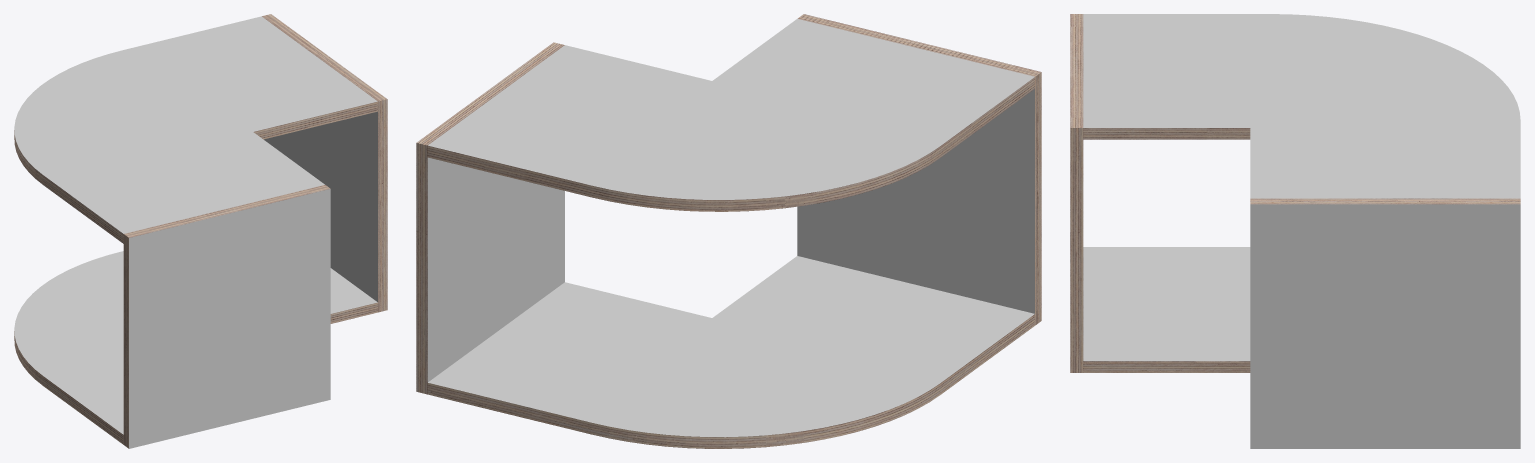
Rendered from Rounded Corner Open.fbx.
3 renders of one model, left to right at view 1: azimuth 30°, elevation 25°; view 2: azimuth 150°, elevation 25°; view 3: azimuth 270°, elevation 25°, orthographic. The views are drawn at different scales.
Parts seen in each view (by area): view 1: Rounded Corner Open.TL, Rounded Corner Open.TM, Rounded Corner Open.BL, Rounded Corner Open.L, Rounded Corner Open.BM, Rounded Corner Open.TR, Rounded Corner Open.TMR, Rounded Corner Open.TML, Rounded Corner Open.R, Rounded Corner Open.BR, Rounded Corner Open.BML; view 2: Rounded Corner Open.TM, Rounded Corner Open.BM, Rounded Corner Open.BL, Rounded Corner Open.BR, Rounded Corner Open.TR, Rounded Corner Open.TL, Rounded Corner Open.BMR, Rounded Corner Open.TMR, Rounded Corner Open.TML, Rounded Corner Open.BML, Rounded Corner Open.L, Rounded Corner Open.R; view 3: Rounded Corner Open.TR, Rounded Corner Open.TM, Rounded Corner Open.R, Rounded Corner Open.BR, Rounded Corner Open.TL, Rounded Corner Open.BML, Rounded Corner Open.TML, Rounded Corner Open.BL, Rounded Corner Open.TMR, Rounded Corner Open.L.
Boxes of the visible parts, x1,y1,x2,y2 form: Rounded Corner Open.TL: (90, 160, 330, 308); Rounded Corner Open.TM: (14, 47, 252, 190); Rounded Corner Open.BL: (90, 329, 330, 448); Rounded Corner Open.L: (123, 259, 330, 378); Rounded Corner Open.BM: (14, 251, 123, 391); Rounded Corner Open.TR: (204, 14, 387, 171); Rounded Corner Open.TMR: (137, 30, 320, 139); Rounded Corner Open.TML: (51, 132, 291, 218); Rounded Corner Open.R: (264, 126, 387, 241); Rounded Corner Open.BR: (330, 208, 387, 323); Rounded Corner Open.BML: (51, 364, 123, 419); Rounded Corner Open.TM: (575, 81, 949, 211); Rounded Corner Open.BM: (575, 318, 949, 448); Rounded Corner Open.BL: (758, 197, 1041, 353); Rounded Corner Open.BR: (416, 211, 632, 410); Rounded Corner Open.TR: (416, 42, 632, 228); Rounded Corner Open.TL: (758, 14, 1041, 159); Rounded Corner Open.BMR: (495, 299, 711, 430); Rounded Corner Open.TMR: (495, 61, 711, 193); Rounded Corner Open.TML: (712, 47, 995, 150); Rounded Corner Open.BML: (712, 284, 995, 387); Rounded Corner Open.L: (848, 142, 1041, 242); Rounded Corner Open.R: (416, 175, 564, 311); Rounded Corner Open.TR: (1250, 166, 1520, 285); Rounded Corner Open.TM: (1250, 14, 1520, 127); Rounded Corner Open.R: (1250, 285, 1520, 367); Rounded Corner Open.BR: (1250, 367, 1520, 448); Rounded Corner Open.TL: (1070, 14, 1160, 209); Rounded Corner Open.BML: (1160, 247, 1250, 372); Rounded Corner Open.TML: (1160, 14, 1250, 139); Rounded Corner Open.BL: (1070, 247, 1160, 372); Rounded Corner Open.TMR: (1250, 128, 1520, 166); Rounded Corner Open.L: (1070, 209, 1083, 291).
Bounding box in the file's own units: 66.67 × 40 × 66.67.
